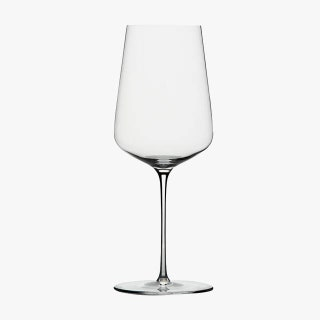glass: (112, 24, 215, 296)
